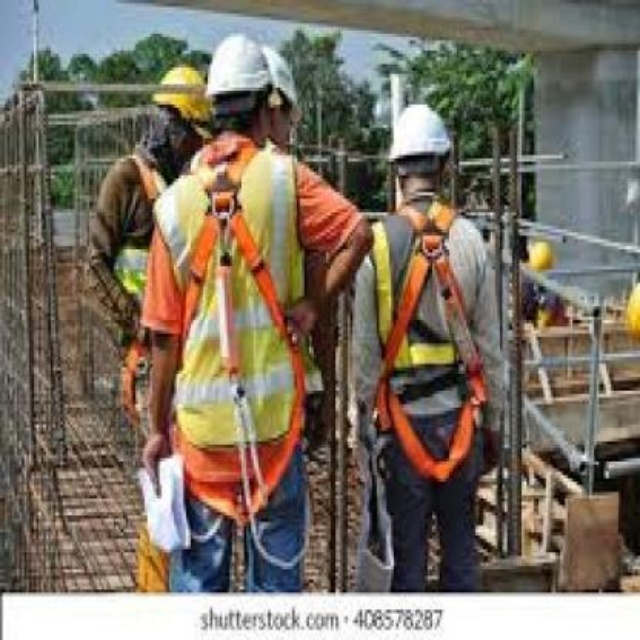Arnes_seguridad: (181, 146, 301, 533), (365, 195, 503, 492)
